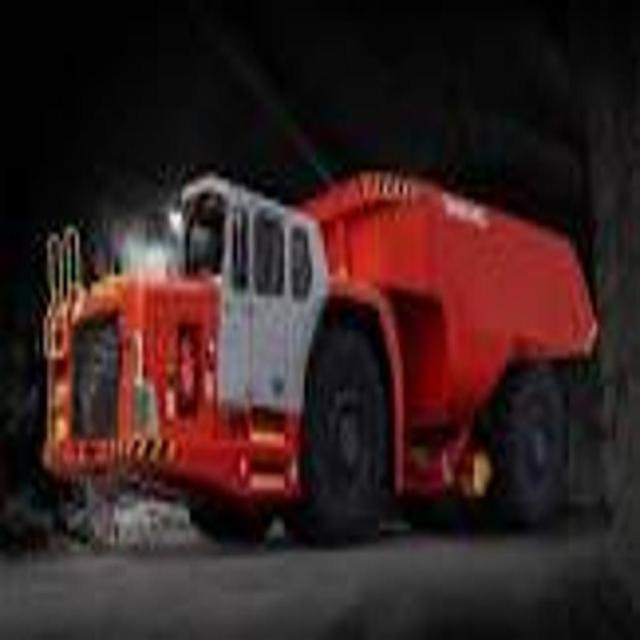dump_truck: (44, 129, 601, 543)
